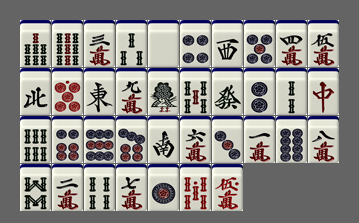0m: (212, 164, 243, 211)
0p: (52, 68, 83, 115)
0s: (180, 164, 211, 211)
1m: (244, 116, 275, 163)
1p: (148, 164, 179, 211)
1s: (148, 68, 179, 115)
1z: (84, 68, 115, 115)
2m: (52, 164, 83, 211)
2p: (244, 68, 275, 115)
2s: (276, 68, 307, 115)
2z: (148, 116, 179, 163)
3m: (84, 20, 115, 67)
3p: (212, 116, 243, 163)
3s: (116, 20, 147, 67)
3z: (212, 20, 243, 67)
4m: (276, 20, 307, 67)
4p: (180, 20, 211, 67)
4s: (84, 164, 115, 211)
4z: (20, 68, 51, 115)
5m: (308, 20, 339, 67)
5p: (244, 20, 275, 67)
5s: (180, 68, 211, 115)
5z: (148, 20, 179, 67)
6m: (180, 116, 211, 163)
6p: (52, 116, 83, 163)
6s: (20, 116, 51, 163)
6z: (212, 68, 243, 115)
7m: (116, 164, 147, 211)
7p: (116, 116, 147, 163)
7s: (20, 20, 51, 67)
7z: (308, 68, 339, 115)
8m: (308, 116, 339, 163)
8p: (276, 116, 307, 163)
8s: (20, 164, 51, 211)
9m: (116, 68, 147, 115)
9p: (84, 116, 115, 163)
9s: (52, 20, 83, 67)
